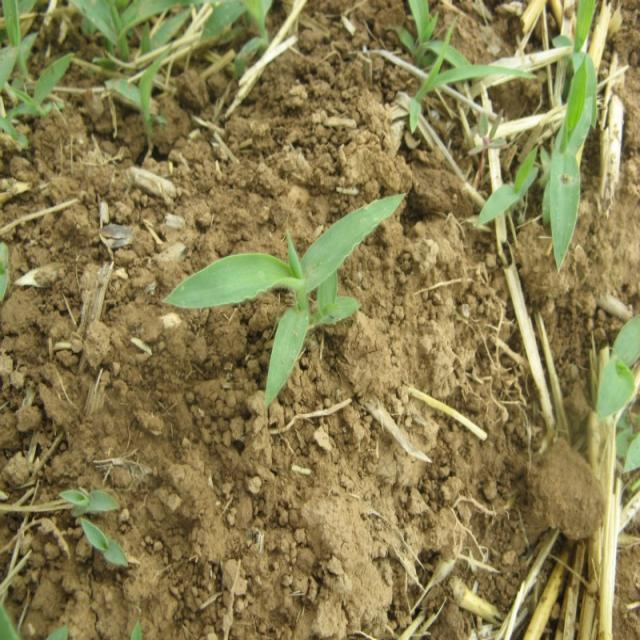bg: (174, 191, 398, 394)
